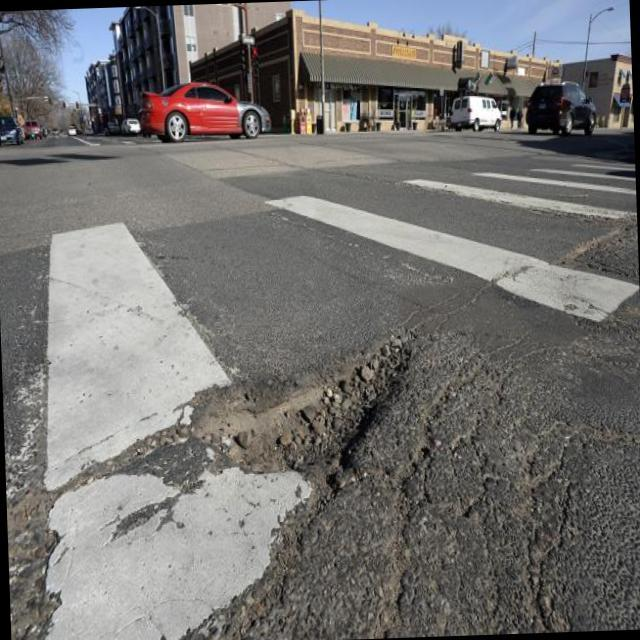Pothole: (138, 317, 414, 556)
